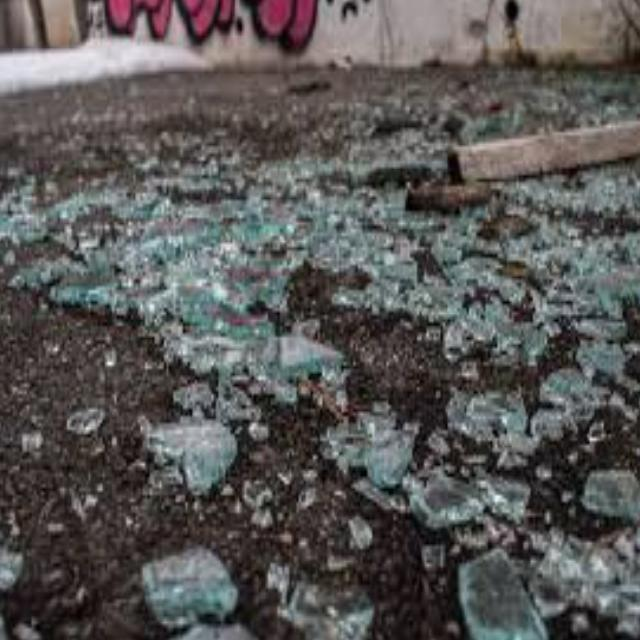PecahanKaca: (1, 74, 638, 638), (139, 543, 239, 629), (143, 412, 238, 499)
